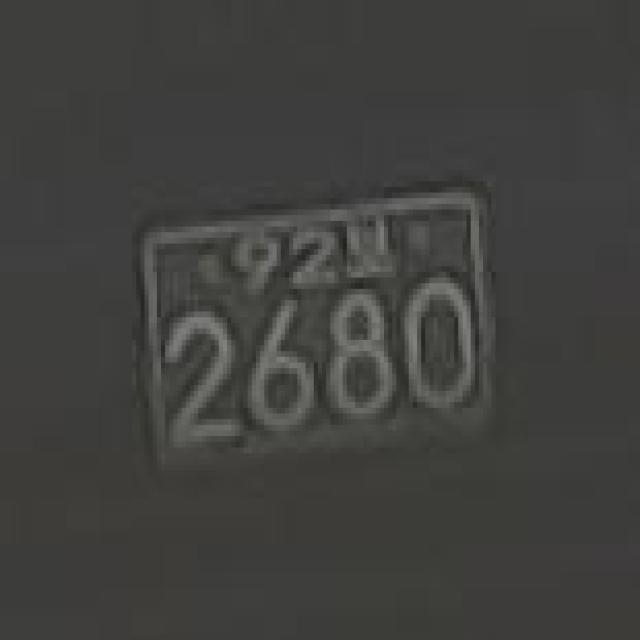illegal_plate: (130, 178, 507, 484)
